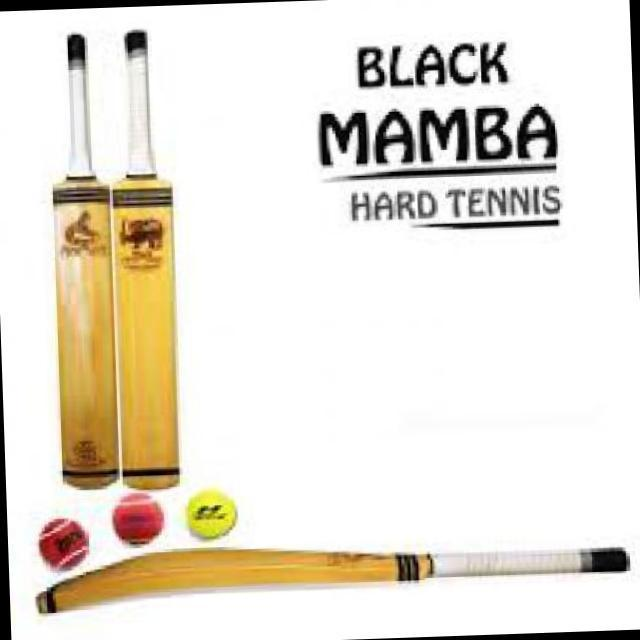-: (10, 493, 108, 584), (104, 488, 185, 551), (191, 498, 236, 545)
